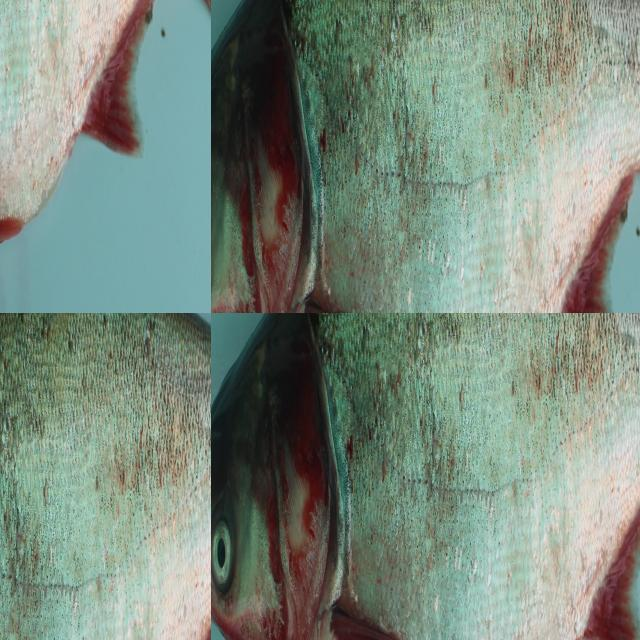fish: (211, 313, 640, 640), (0, 0, 211, 313)
